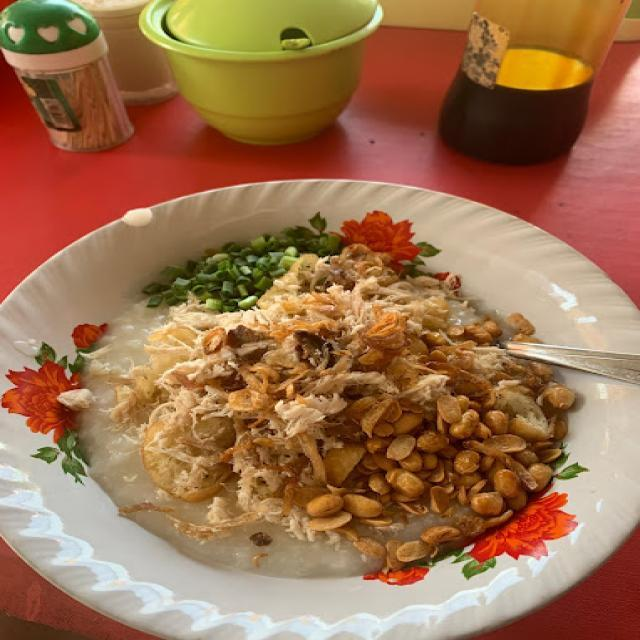bubur ayam: (69, 225, 570, 580)
mangkuk: (0, 179, 640, 640)
